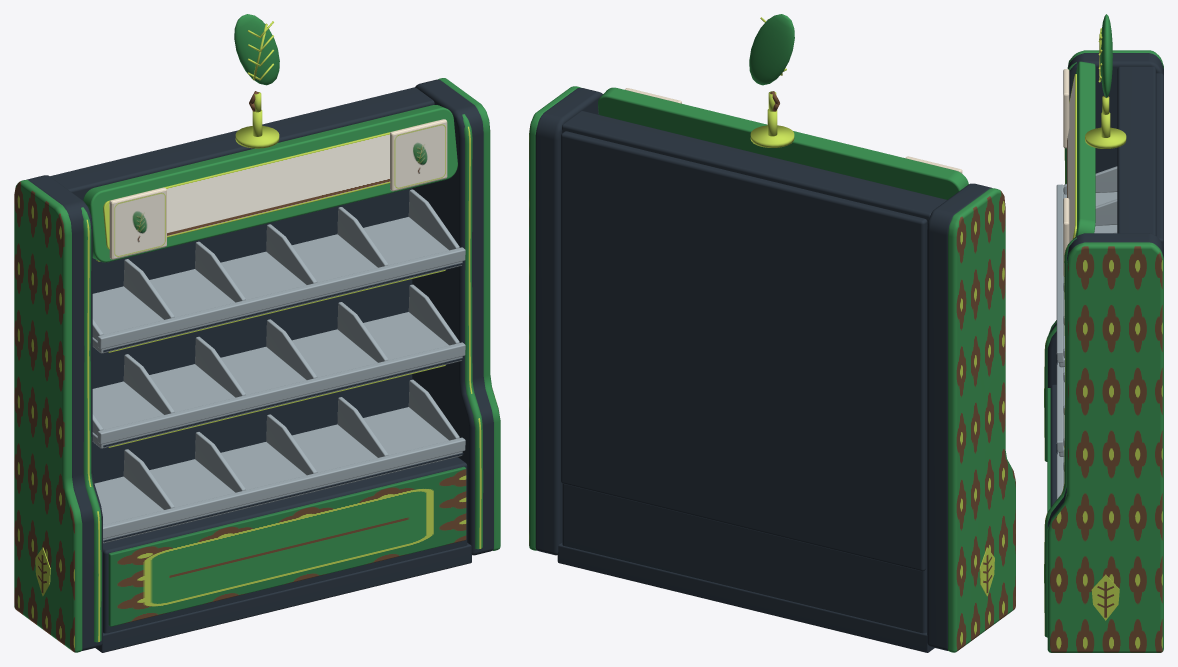
The model's file is TH_JUNGLE.fbx.
3 renders of one model, left to right at view 1: azimuth 30°, elevation 25°; view 2: azimuth 150°, elevation 25°; view 3: azimuth 270°, elevation 25°, orthographic. The views are drawn at different scales.
Parts seen in each view (by area): view 1: BaseFrontInset, Left_PaintedPanel, BackPanel.001, Right_StructuralWall, Tray_02, Tray_01, Tray_03, HeaderFace, HeaderBorder, TopCrossRail, ClosedSolidBase, Left_StructuralWall (+33 smaller); view 2: BackPanel.001, Left_PaintedPanel, ClosedSolidBase, Right_StructuralWall, HeaderBorder, Left_StructuralWall, TopCrossRail, LowerPlinth, Right_PaintedPanel, Sculpted jungle leaf, TopperMount; view 3: Right_PaintedPanel, TopCrossRail, HeaderBorder, Left_StructuralWall, FrontLip_01, HeaderFace, BackPanel.001, RightHousing, Right_StructuralWall, Sculpted jungle leaf, ClosedSolidBase, Relief.024 (+13 smaller).
Boxes of the visible parts, x1,y1,x2,y2 form: BaseFrontInset: (108, 466, 466, 626); Left_PaintedPanel: (14, 179, 82, 652); BackPanel.001: (92, 188, 412, 483); Right_StructuralWall: (412, 79, 493, 555); Tray_02: (92, 312, 462, 448); Tray_01: (92, 217, 462, 353); Tray_03: (94, 407, 462, 543); HeaderFace: (103, 122, 429, 249); HeaderBorder: (83, 105, 457, 262); TopCrossRail: (50, 87, 434, 200); ClosedSolidBase: (103, 457, 467, 633); Left_StructuralWall: (27, 175, 102, 650); BackPanel.001: (561, 131, 927, 571); Left_PaintedPanel: (948, 188, 1015, 652); ClosedSolidBase: (562, 483, 926, 633); Right_StructuralWall: (535, 87, 602, 555); HeaderBorder: (598, 87, 968, 199); Left_StructuralWall: (927, 183, 992, 650); TopCrossRail: (562, 111, 946, 226); LowerPlinth: (557, 543, 934, 652); Right_PaintedPanel: (529, 86, 581, 550); Sculpted jungle leaf: (749, 14, 794, 85); TopperMount: (750, 125, 794, 147); Right_PaintedPanel: (1047, 242, 1163, 652); TopCrossRail: (1117, 66, 1156, 235); HeaderBorder: (1075, 61, 1095, 236); Left_StructuralWall: (1047, 53, 1163, 387); FrontLip_01: (1056, 184, 1063, 362); HeaderFace: (1067, 74, 1076, 242); BackPanel.001: (1156, 73, 1163, 248); RightHousing: (1044, 237, 1076, 637); Right_StructuralWall: (1047, 233, 1163, 528); Sculpted jungle leaf: (1100, 14, 1112, 97); ClosedSolidBase: (1050, 384, 1056, 507); Relief.024: (1091, 574, 1119, 620).
Size of the model in its own units: 3.62 by 4.62 by 0.9273.
